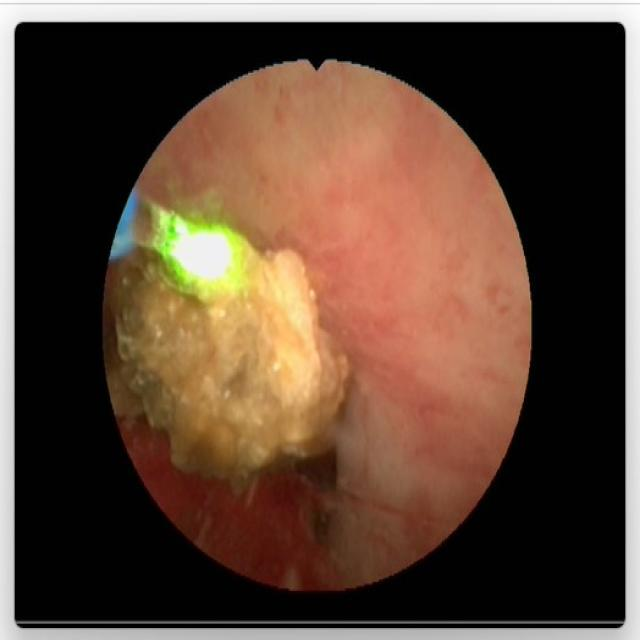stone: (114, 196, 339, 488)
